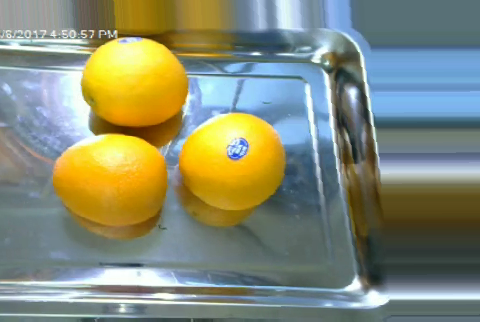Orange: (51, 132, 168, 225), (179, 112, 287, 210), (80, 35, 187, 127)
